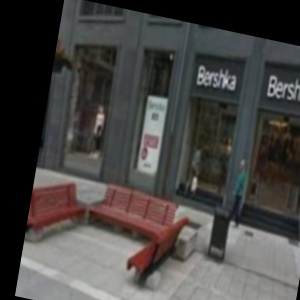bershka: (121, 24, 300, 96), (170, 38, 300, 104)
